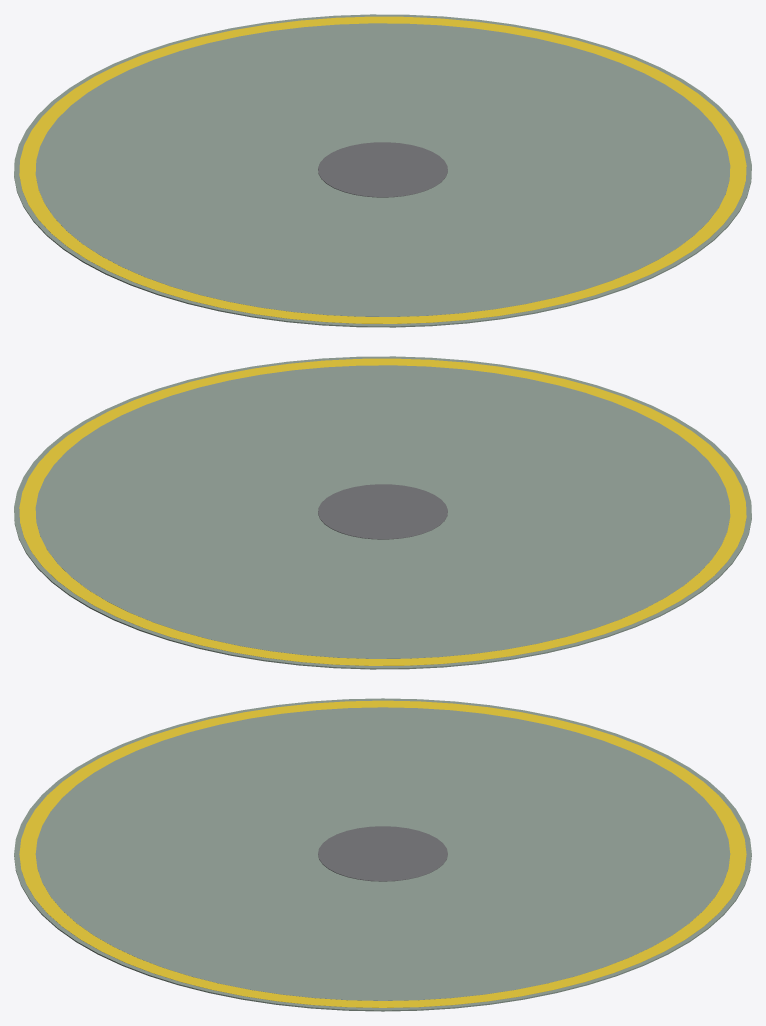
Rendered from ferry_turntable.glb.
3 views of the same model, one above another, from view 1: azimuth 30°, elevation 25°; view 2: azimuth 150°, elevation 25°; view 3: azimuth 270°, elevation 25° (orthographic).
Parts seen in each view (by area): view 1: SM_ferry_turntable; view 2: SM_ferry_turntable; view 3: SM_ferry_turntable.
Part boxes in pixels (left/top/right/bottom): SM_ferry_turntable: left=14, top=14, right=751, bottom=327; SM_ferry_turntable: left=14, top=356, right=751, bottom=669; SM_ferry_turntable: left=14, top=698, right=751, bottom=1011.
Size of the model in its own units: 6.8 by 0.02 by 6.8.
